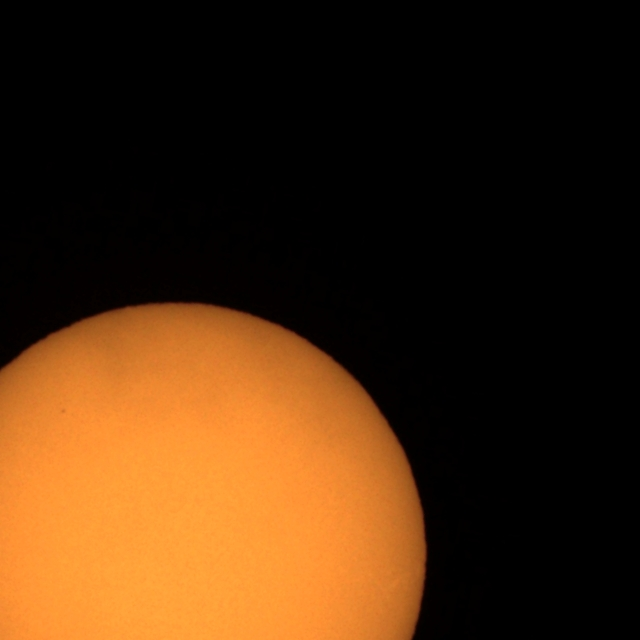sunspot: (59, 407, 67, 415)
